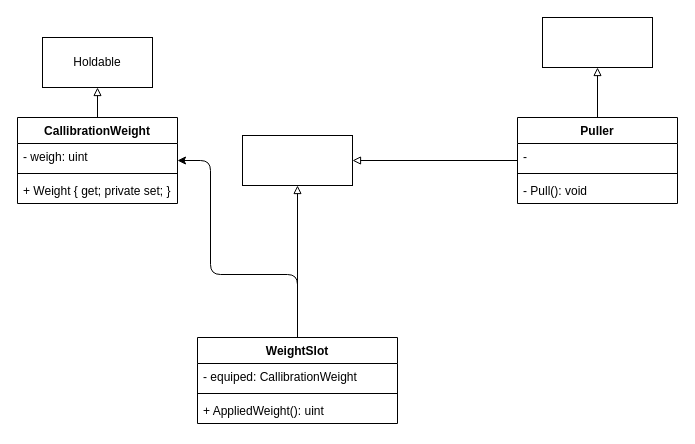
The diagram is 695 pixels wide and 444 high, and some of its shapes have lost their labels. The shapes that lost their labels are listed below. From the top down, each one's centre as x and y in pixels, then its label:
At point 597,42: "«interface» IHoldable".
At point 297,160: "MonoBehaviour".
